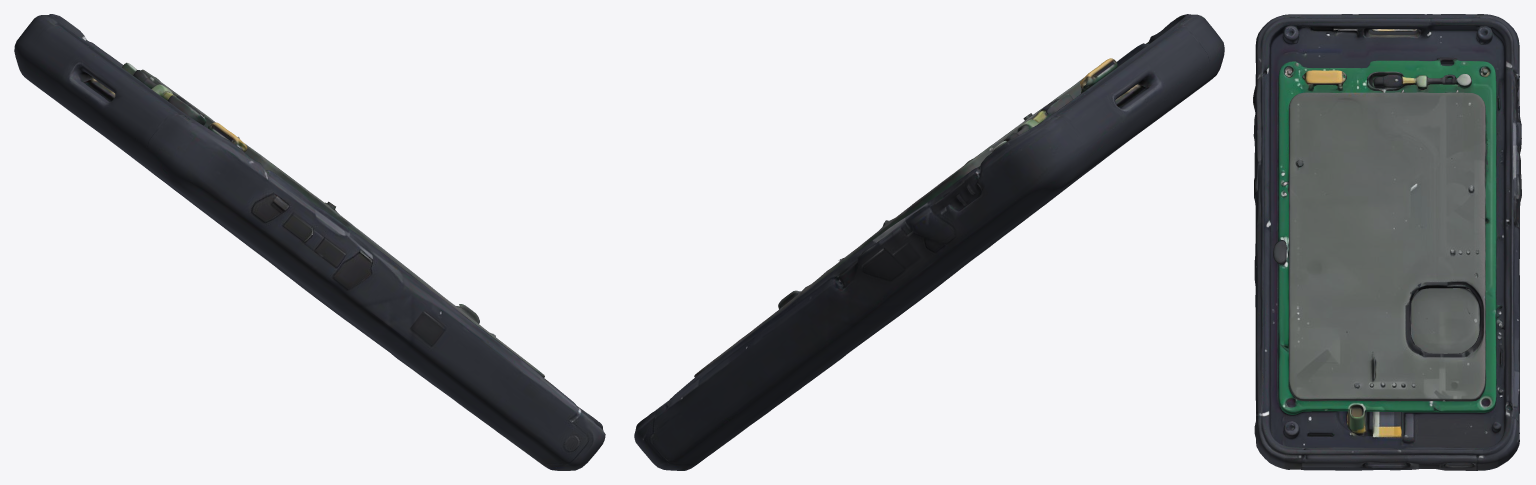
Rendered from ml_job_phone_open.glb.
3 renders of one model, left to right at view 1: azimuth 30°, elevation 25°; view 2: azimuth 150°, elevation 25°; view 3: azimuth 270°, elevation 25°, orthographic. The views are drawn at different scales.
Parts seen in each view (by area): view 1: tripo_node_64754da0-40bc-4930-9017-977072e12fa2; view 2: tripo_node_64754da0-40bc-4930-9017-977072e12fa2; view 3: tripo_node_64754da0-40bc-4930-9017-977072e12fa2.
Part boxes in pixels (bbox=[...]): tripo_node_64754da0-40bc-4930-9017-977072e12fa2: bbox=[14, 14, 605, 470]; tripo_node_64754da0-40bc-4930-9017-977072e12fa2: bbox=[634, 14, 1224, 470]; tripo_node_64754da0-40bc-4930-9017-977072e12fa2: bbox=[1253, 14, 1521, 470].
Size of the model in its own units: 0.9776 by 0.9317 by 0.711.
1 material, 1 textured.
